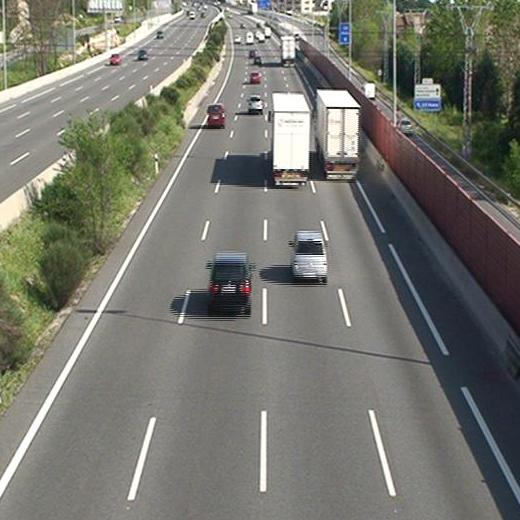car: (208, 253, 250, 306), (290, 232, 326, 280), (206, 105, 224, 127), (248, 95, 263, 113), (249, 71, 261, 83), (253, 56, 261, 63)
truck: (316, 89, 358, 180), (270, 95, 310, 187), (280, 37, 295, 66)
